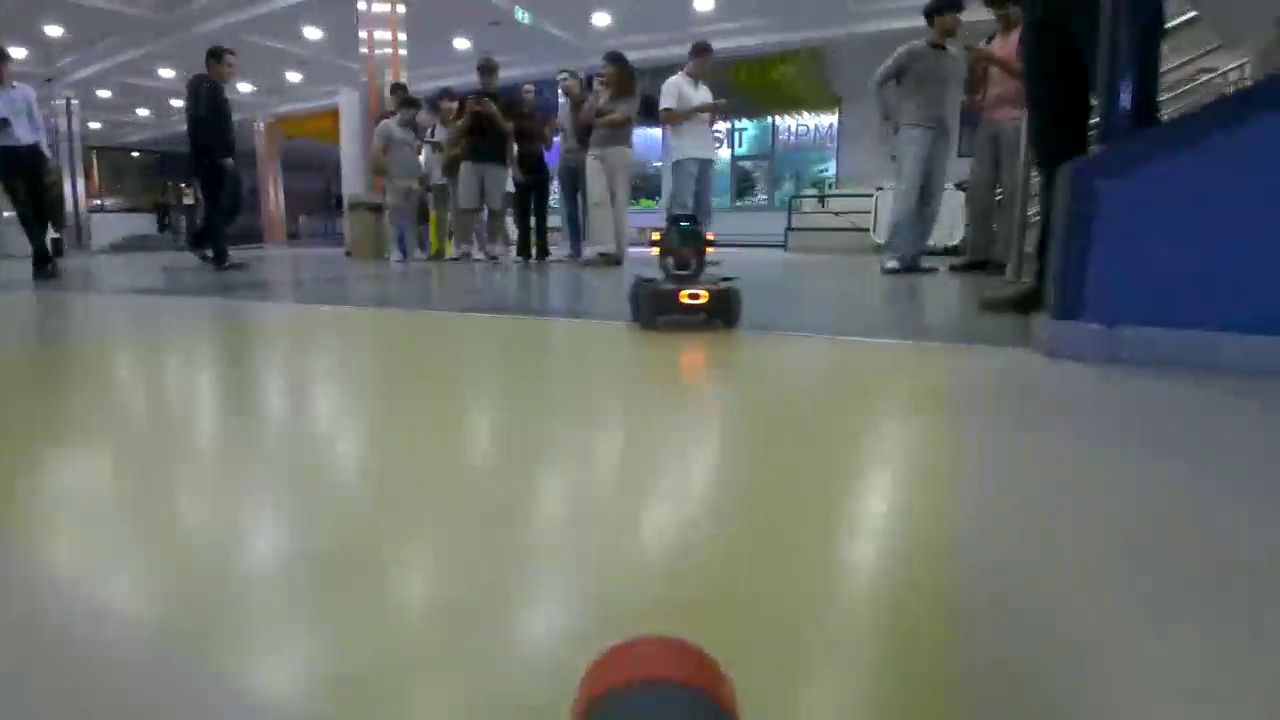robot: (628, 214, 742, 326)
